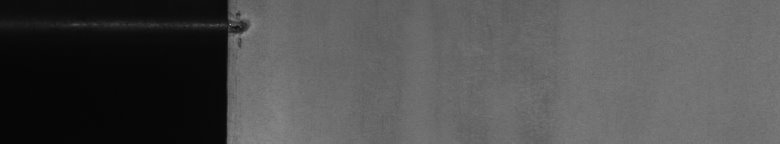hb: (236, 6, 256, 51)
